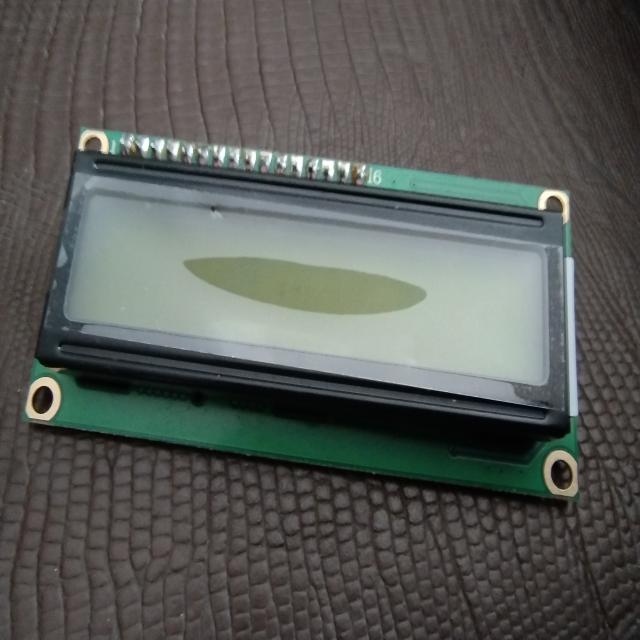lcd: (24, 125, 581, 502)
